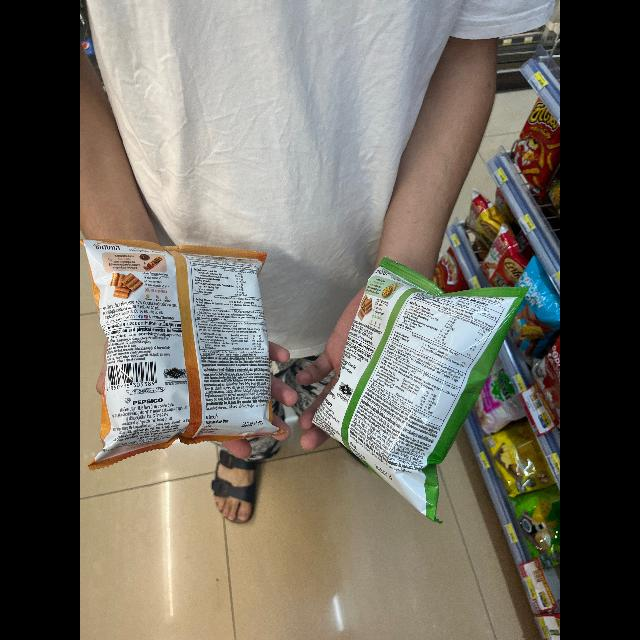snack_bag: (297, 253, 538, 521), (80, 223, 304, 469)
